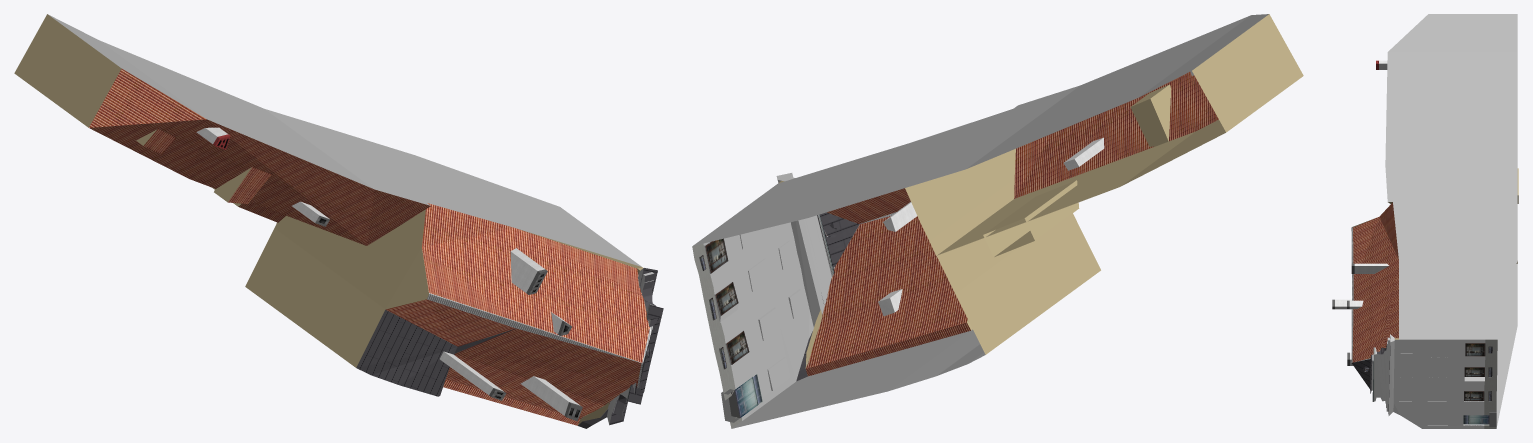
Rendered from Pikk_39_1-origo.obj.
3 views of the same model, side by side, from view 1: azimuth 30°, elevation 25°; view 2: azimuth 150°, elevation 25°; view 3: azimuth 270°, elevation 25° (orthographic). The views are drawn at different scales.
Visible parts, largest first — view 1: Pikk_39_1; view 2: Pikk_39_1; view 3: Pikk_39_1.
Part boxes in pixels (left/top/right/bottom): Pikk_39_1: left=14, top=14, right=663, bottom=428; Pikk_39_1: left=692, top=14, right=1303, bottom=428; Pikk_39_1: left=1332, top=14, right=1518, bottom=428.
Bounding box in the file's own units: 43.81 × 36.5 × 21.98.
